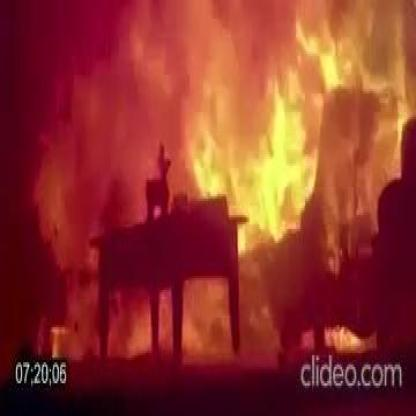fire: (238, 42, 318, 259), (296, 4, 410, 114), (174, 21, 237, 194), (42, 173, 97, 355), (239, 264, 281, 367), (186, 278, 229, 365), (112, 292, 151, 360), (325, 323, 379, 355), (160, 290, 172, 355)
